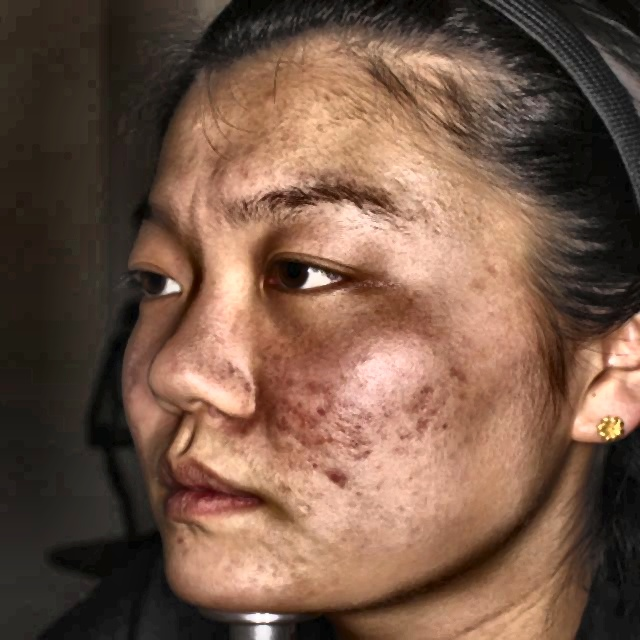comedone: (300, 410, 345, 450), (319, 462, 367, 498)
